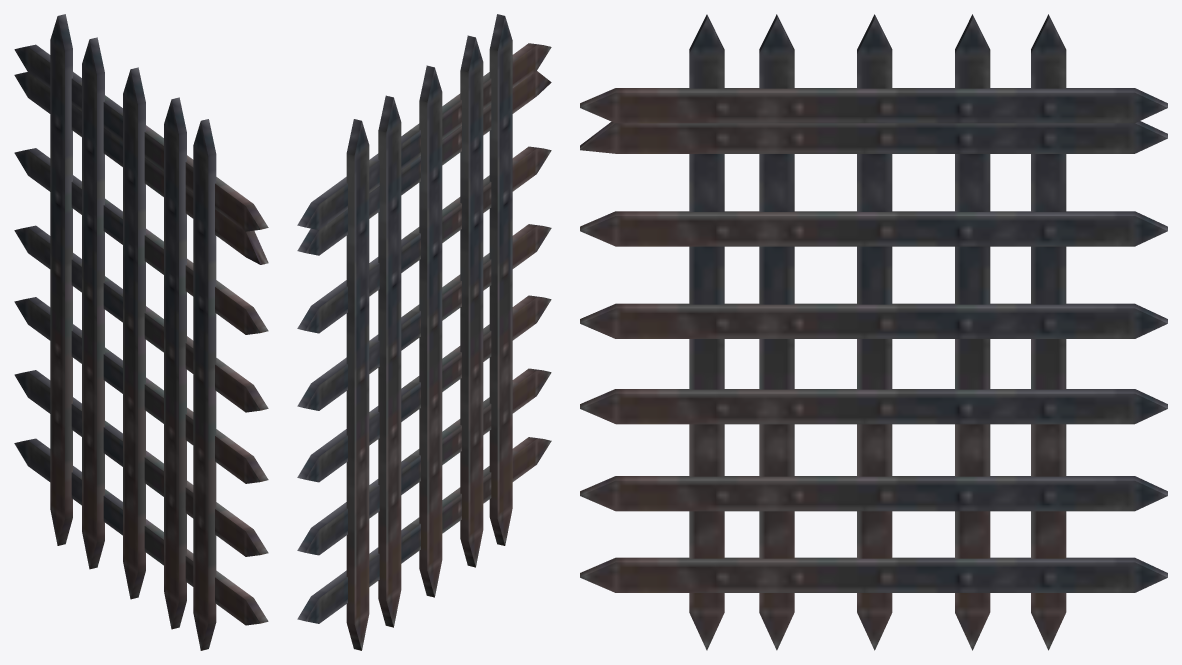
The model's file is castleGate.fbx.
The picture shows the model from 3 angles, left to right: view 1: azimuth 30°, elevation 25°; view 2: azimuth 150°, elevation 25°; view 3: azimuth 270°, elevation 25°; orthographic projection. The views are drawn at different scales.
Visible parts, largest first — view 1: castleGate; view 2: castleGate; view 3: castleGate.
Part boxes in pixels (left/top/right/bottom): castleGate: left=14, top=14, right=268, bottom=650; castleGate: left=297, top=14, right=551, bottom=650; castleGate: left=580, top=14, right=1167, bottom=650.
Size of the model in its own units: 0.2187 by 7.53 by 6.34.
1 material, 1 textured.
